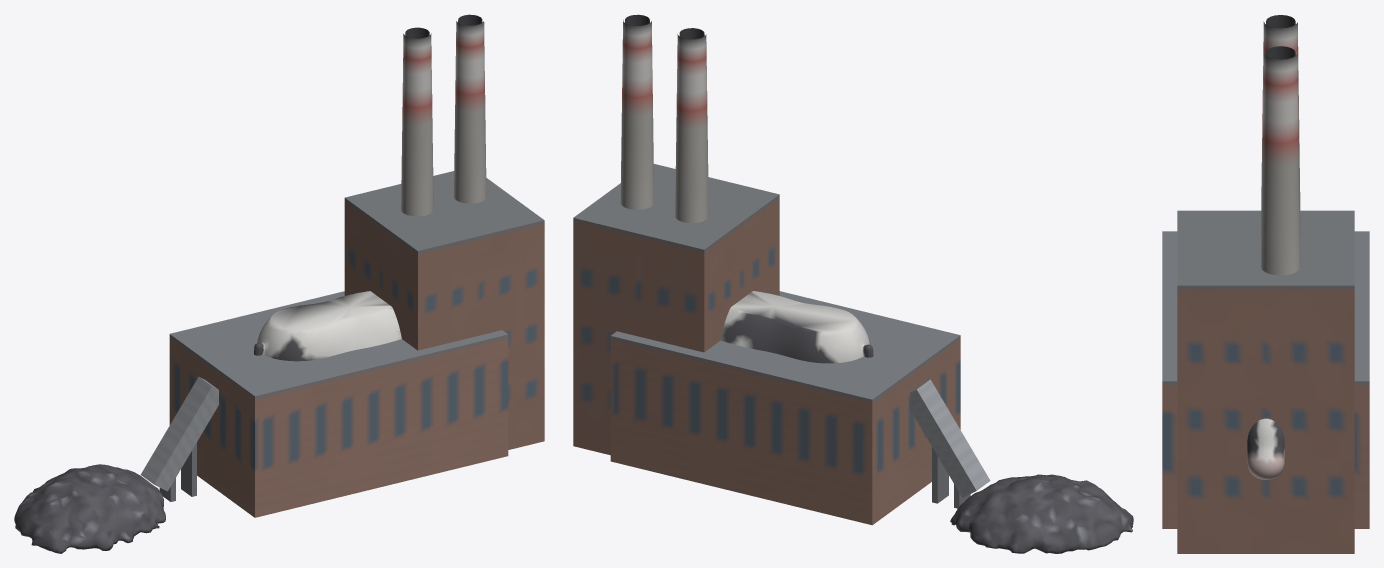
File: carbon-cycle.glb
The picture shows the model from 3 angles, left to right: view 1: azimuth 30°, elevation 25°; view 2: azimuth 150°, elevation 25°; view 3: azimuth 270°, elevation 25°; orthographic projection. The views are drawn at different scales.
Visible parts, largest first — view 1: plant, cow; view 2: plant, cow; view 3: plant, cow.
Boxes of the visible parts, x1=… form: plant: x1=14, y1=14, x2=544, y2=553; cow: x1=254, y1=291, x2=401, y2=361; plant: x1=573, y1=14, x2=1133, y2=553; cow: x1=720, y1=291, x2=873, y2=363; plant: x1=1162, y1=15, x2=1369, y2=553; cow: x1=1247, y1=418, x2=1284, y2=479.
Size of the model in its own units: 48.01 by 36.29 by 14.
